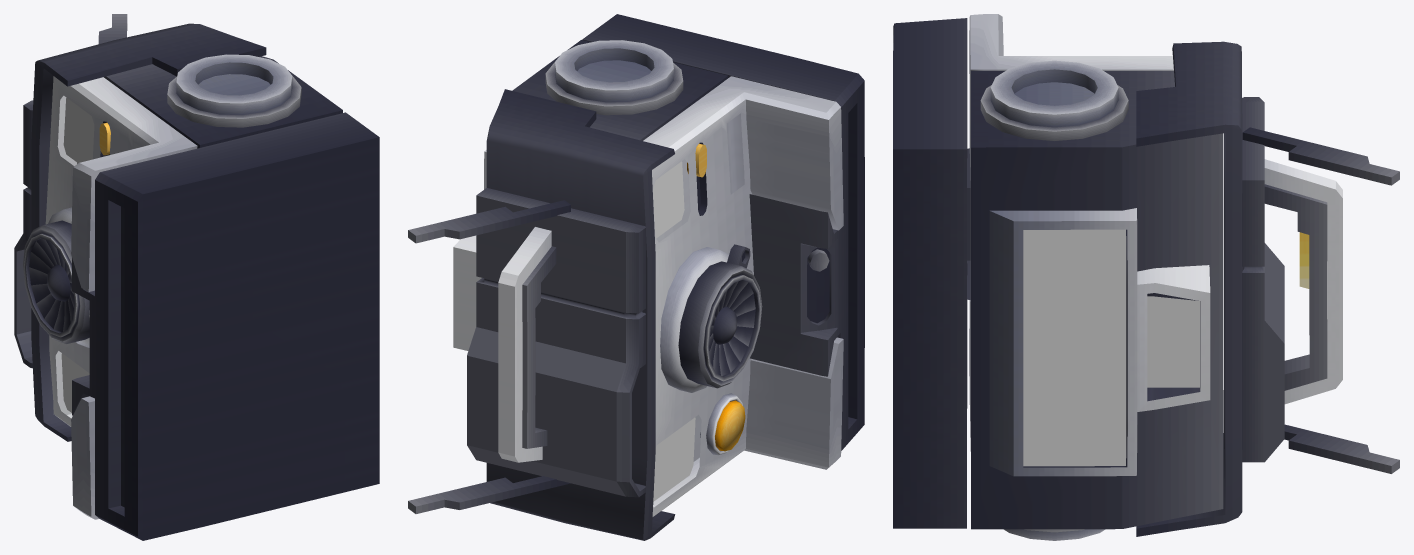
File: Camera.fbx
3 renders of one model, left to right at view 1: azimuth 30°, elevation 25°; view 2: azimuth 150°, elevation 25°; view 3: azimuth 270°, elevation 25°, orthographic. The views are drawn at different scales.
Visible parts, largest first — view 1: Cube.014; view 2: Cube.014; view 3: Cube.014.
Boxes of the visible parts, x1,y1,x2,y2 form: Cube.014: (14, 14, 379, 540); Cube.014: (408, 14, 864, 540); Cube.014: (893, 14, 1399, 540).
Size of the model in its own units: 2.41 by 2.23 by 1.66.
2 materials, 1 textured.
